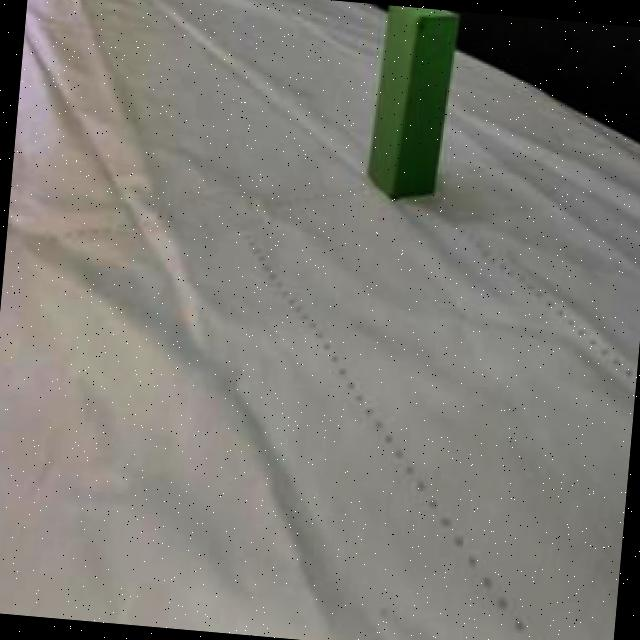greenbox: (365, 4, 456, 209)
